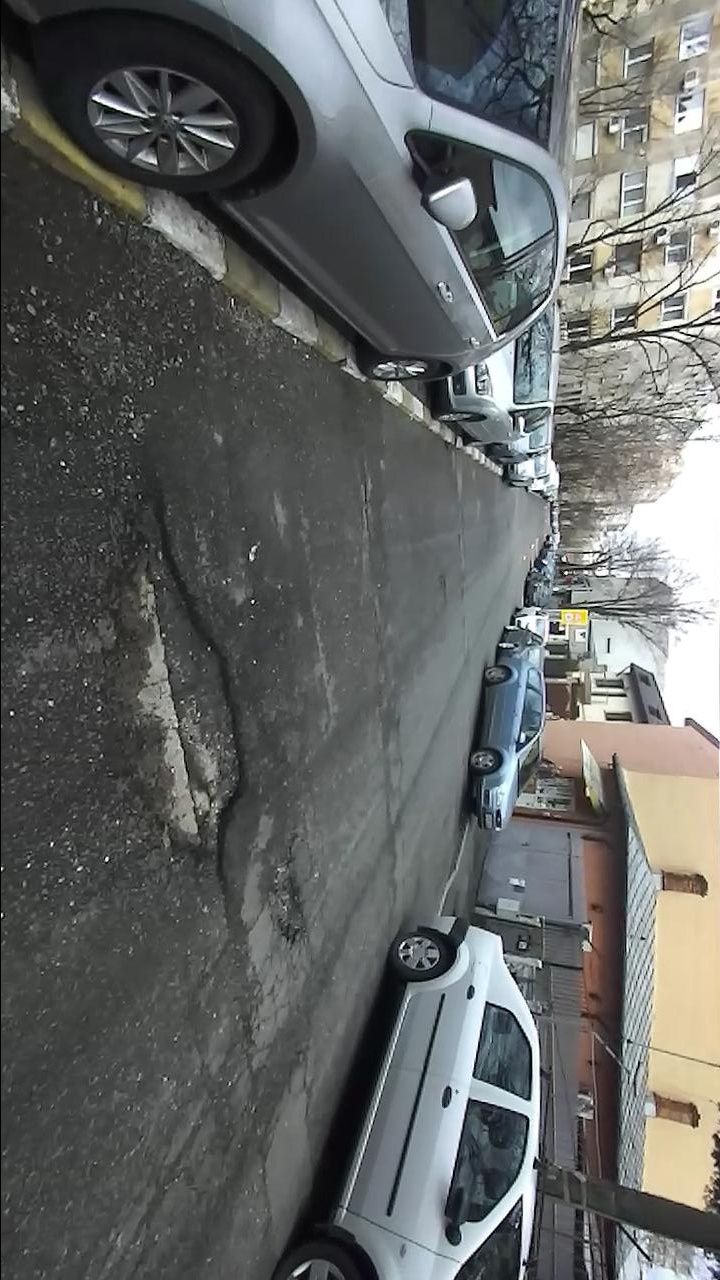pothole: (99, 464, 251, 897), (263, 835, 314, 957), (353, 466, 378, 548)
